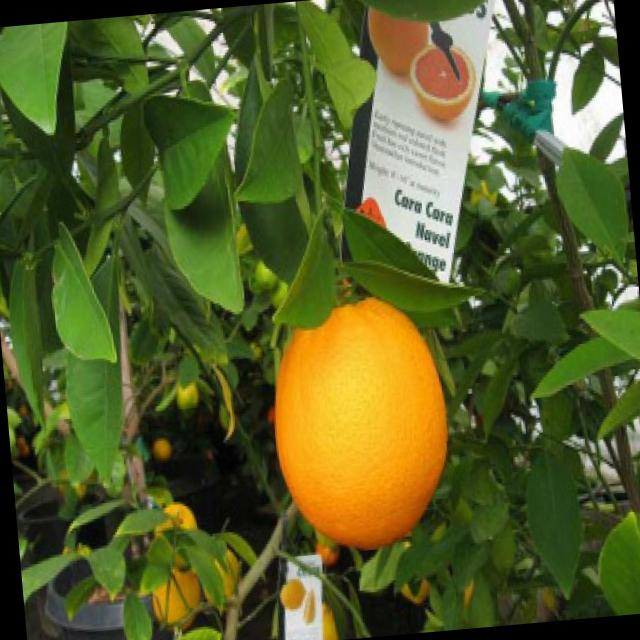orange: (250, 278, 466, 560)
